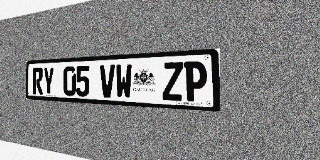0: (63, 66, 76, 96)
5: (76, 66, 89, 97)
P: (184, 61, 207, 102)
R: (33, 67, 43, 95)
V: (100, 64, 115, 98)
W: (116, 64, 132, 99)
Y: (43, 67, 54, 95)
Z: (162, 62, 183, 101)
